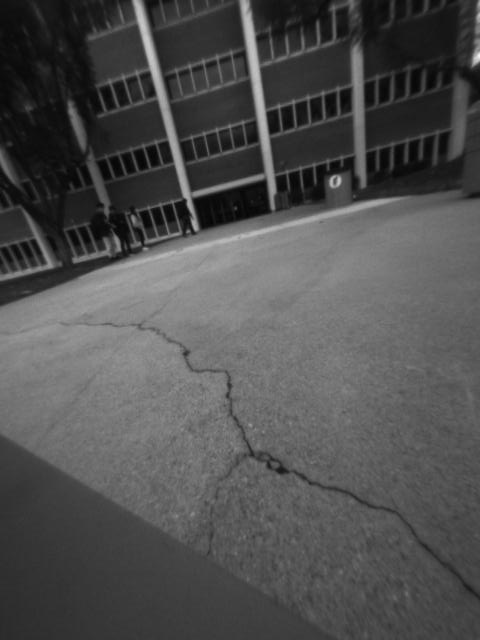trashcan: (322, 168, 356, 207)
